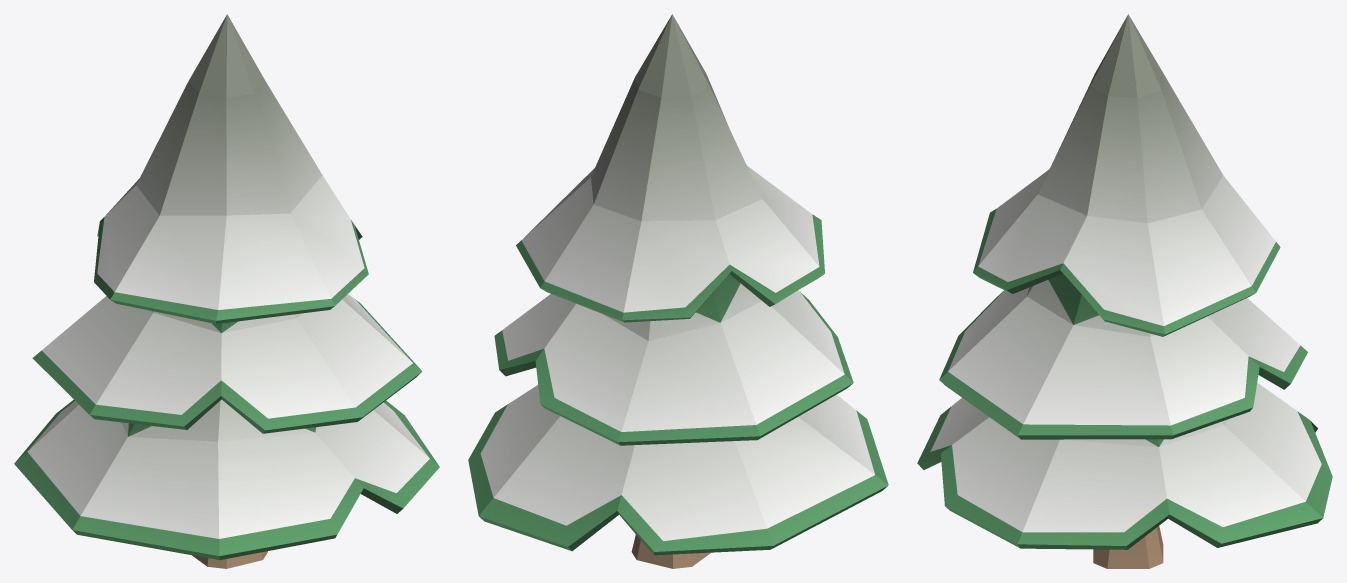
File: SnowPine1.fbx
3 renders of one model, left to right at view 1: azimuth 30°, elevation 25°; view 2: azimuth 150°, elevation 25°; view 3: azimuth 270°, elevation 25°, orthographic.
Visible parts, largest first — view 1: SnowPine1; view 2: SnowPine1; view 3: SnowPine1.
Boxes of the visible parts, bbox=[...] form: SnowPine1: bbox=[14, 14, 439, 568]; SnowPine1: bbox=[468, 14, 888, 568]; SnowPine1: bbox=[917, 14, 1332, 568].
Size of the model in its own units: 432 by 613 by 428.
